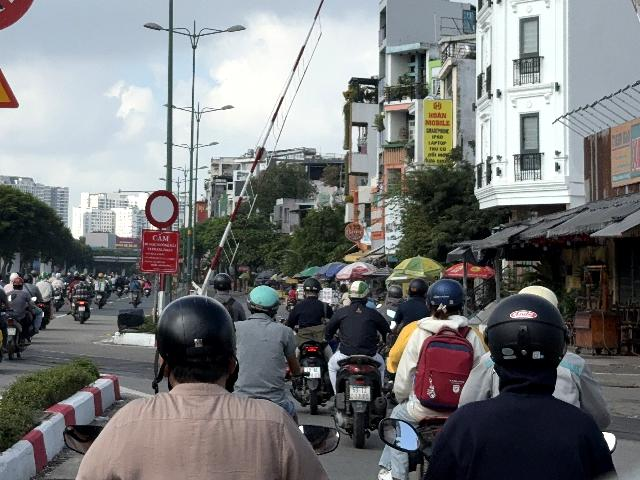duong-cam: (145, 189, 180, 228)
